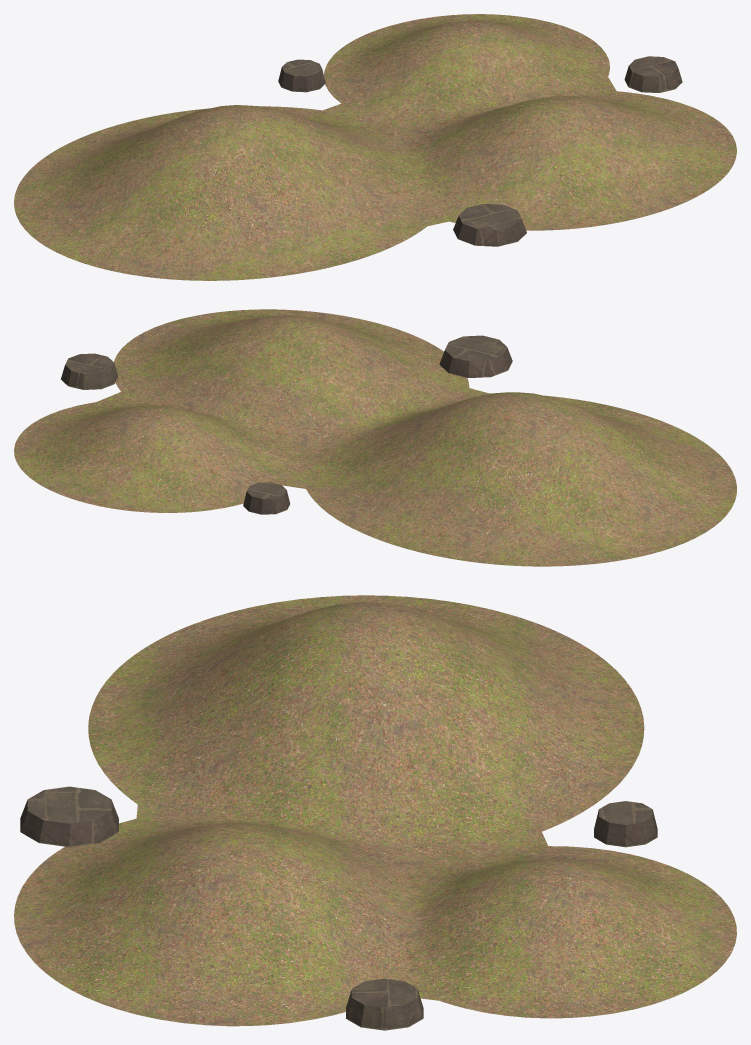
The model's file is 03 Rolling Mounts.fbx.
The picture shows the model from 3 angles, top to bottom: view 1: azimuth 30°, elevation 25°; view 2: azimuth 150°, elevation 25°; view 3: azimuth 270°, elevation 25°; orthographic projection. The views are drawn at different scales.
Parts seen in each view (by area): view 1: SiteA_RollingMounds_turf_mounds, SiteA_RollingMounds_stepping_stones; view 2: SiteA_RollingMounds_turf_mounds, SiteA_RollingMounds_stepping_stones; view 3: SiteA_RollingMounds_turf_mounds, SiteA_RollingMounds_stepping_stones.
Boxes of the visible parts, box(x1,y1,x2,y2) form: SiteA_RollingMounds_turf_mounds: box(14, 14, 736, 280); SiteA_RollingMounds_stepping_stones: box(278, 56, 682, 246); SiteA_RollingMounds_turf_mounds: box(14, 309, 736, 566); SiteA_RollingMounds_stepping_stones: box(61, 335, 512, 514); SiteA_RollingMounds_turf_mounds: box(14, 595, 736, 1026); SiteA_RollingMounds_stepping_stones: box(20, 786, 657, 1030).
Size of the model in its own units: 5.62 by 0.6495 by 3.9.
Materials: 2 (2 with a texture image).
